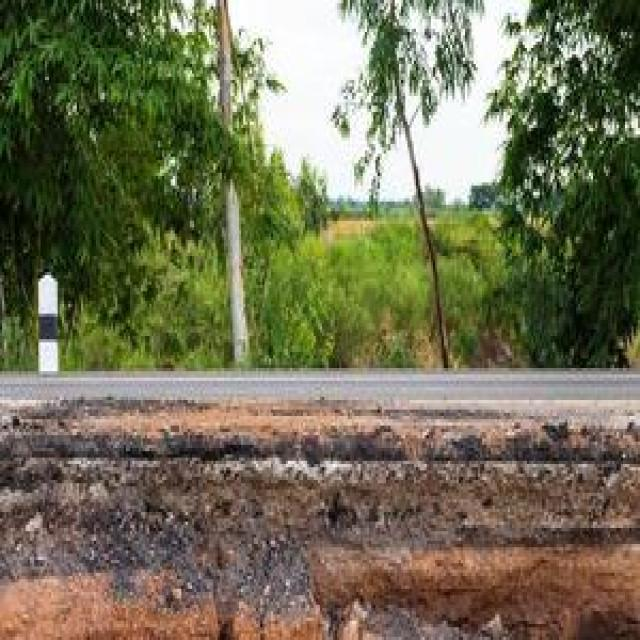road collapse: (0, 356, 640, 640)
